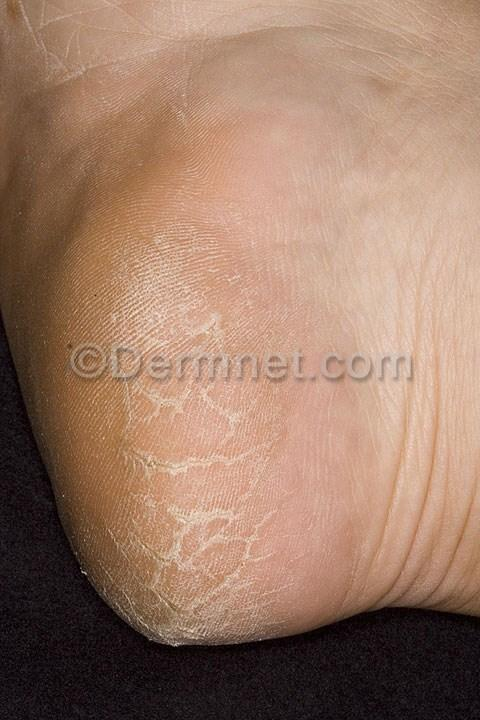Eczema: (271, 524, 358, 635), (91, 502, 204, 573), (279, 307, 369, 396), (294, 453, 372, 554), (94, 431, 193, 509), (345, 44, 429, 129), (200, 495, 286, 572), (192, 425, 279, 499), (195, 305, 272, 382), (270, 391, 353, 458), (100, 361, 184, 425), (112, 241, 200, 302), (180, 243, 259, 310), (139, 573, 209, 646), (123, 307, 193, 378), (210, 575, 276, 645), (192, 369, 269, 423), (0, 0, 69, 53)
